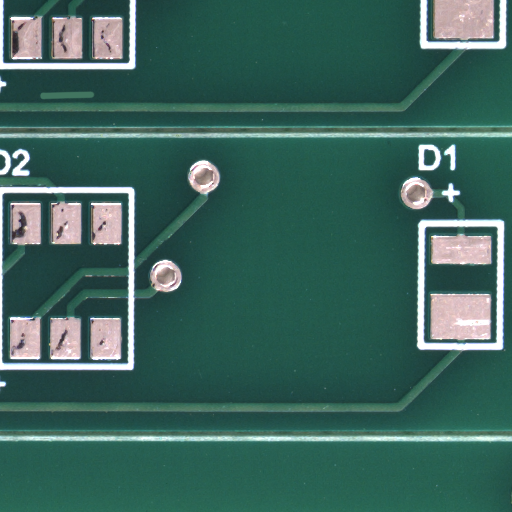Spurious_copper: (67, 95, 128, 105)
